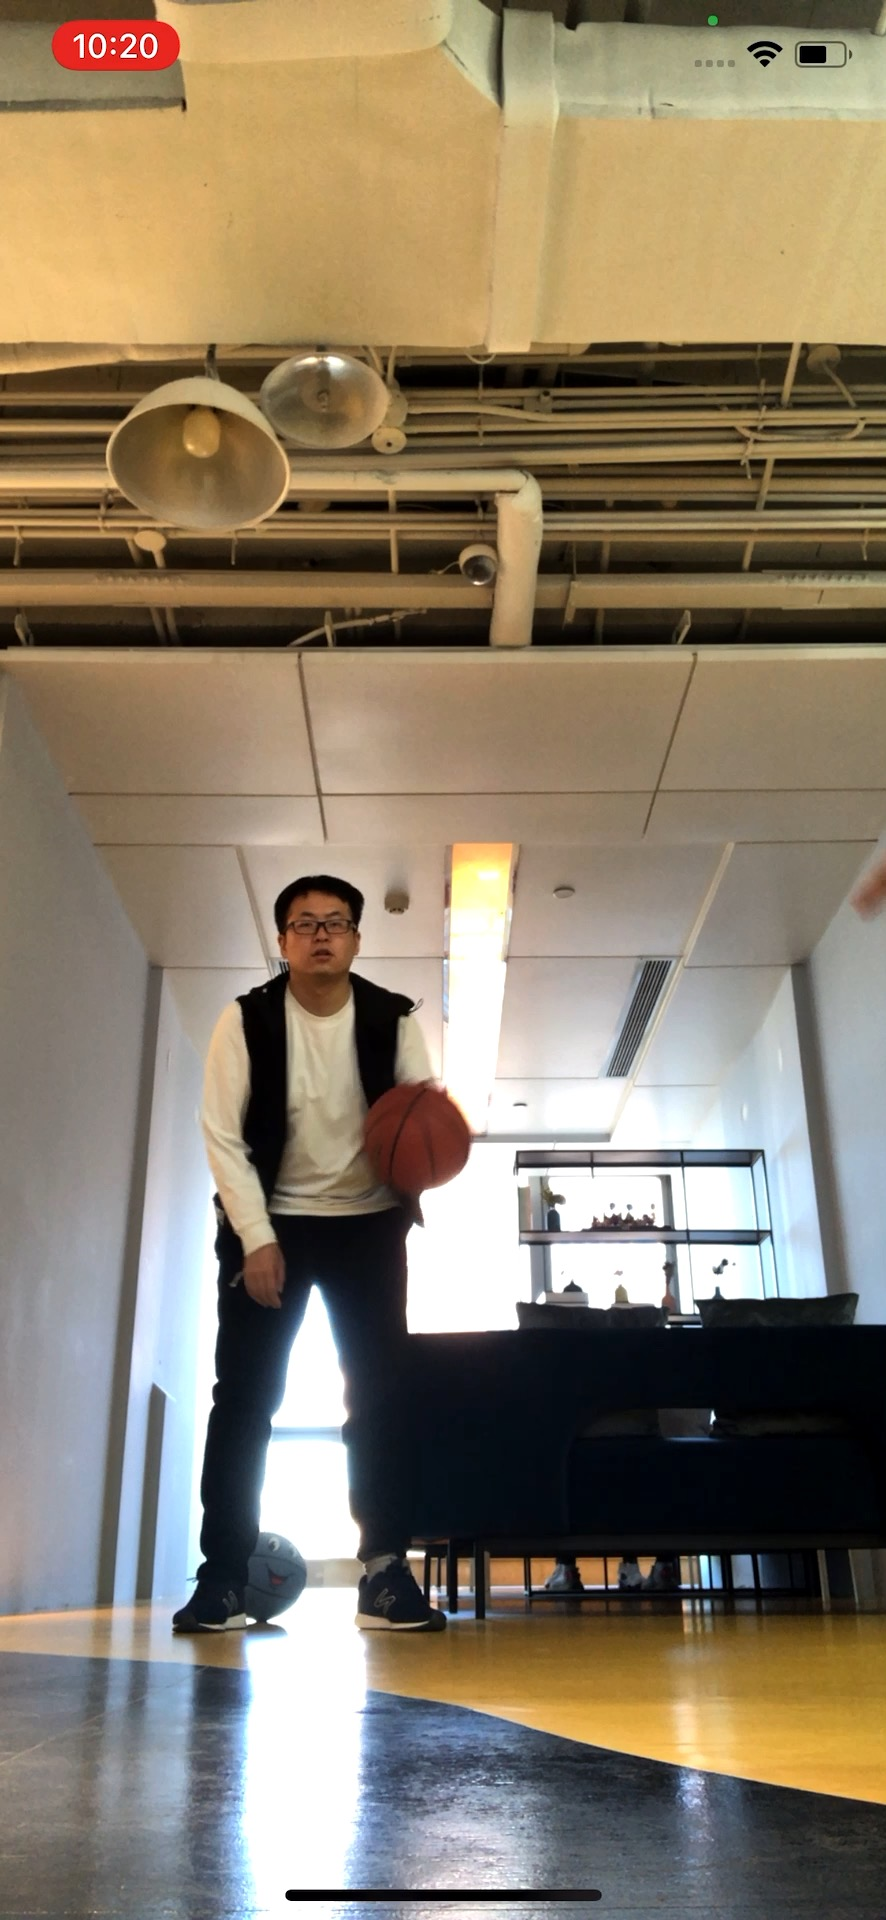ball: (367, 1080, 472, 1190)
